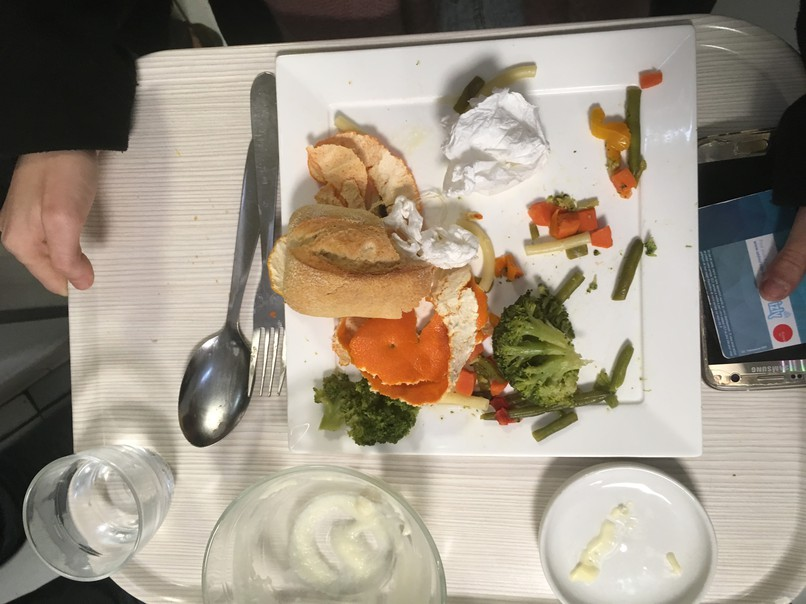cup: (5, 440, 185, 590)
cutlery: (181, 57, 287, 445)
orga: (284, 204, 434, 323), (340, 317, 487, 412), (503, 284, 588, 441), (310, 125, 428, 233), (317, 374, 412, 446), (595, 89, 647, 199), (533, 198, 615, 258)
trash: (455, 95, 542, 189), (394, 204, 478, 269)
